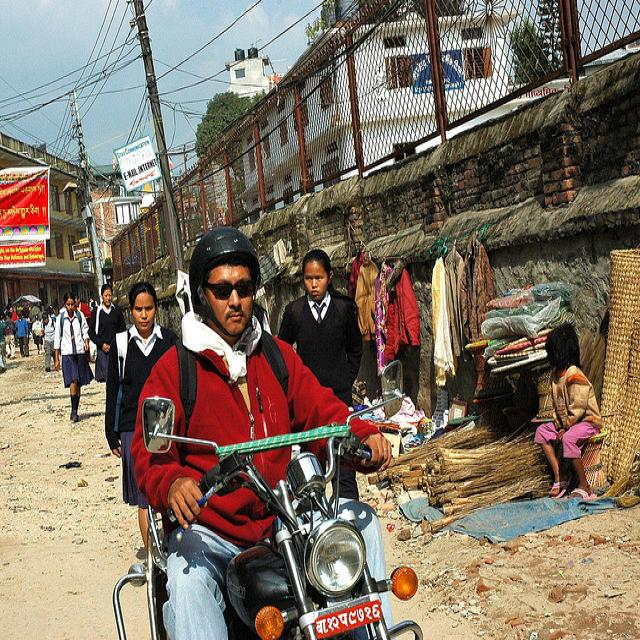motor: (113, 356, 423, 634)
